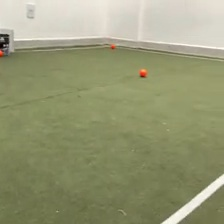ball: (138, 66, 148, 77), (110, 41, 116, 49)
robot: (1, 31, 11, 56)
